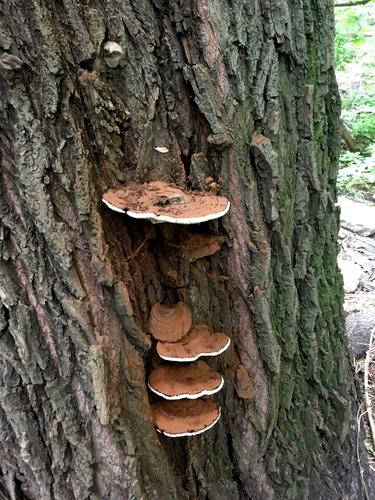Ganoderma - Fruit Body: (104, 179, 235, 223), (148, 305, 228, 357), (146, 400, 229, 437), (147, 365, 227, 398)
